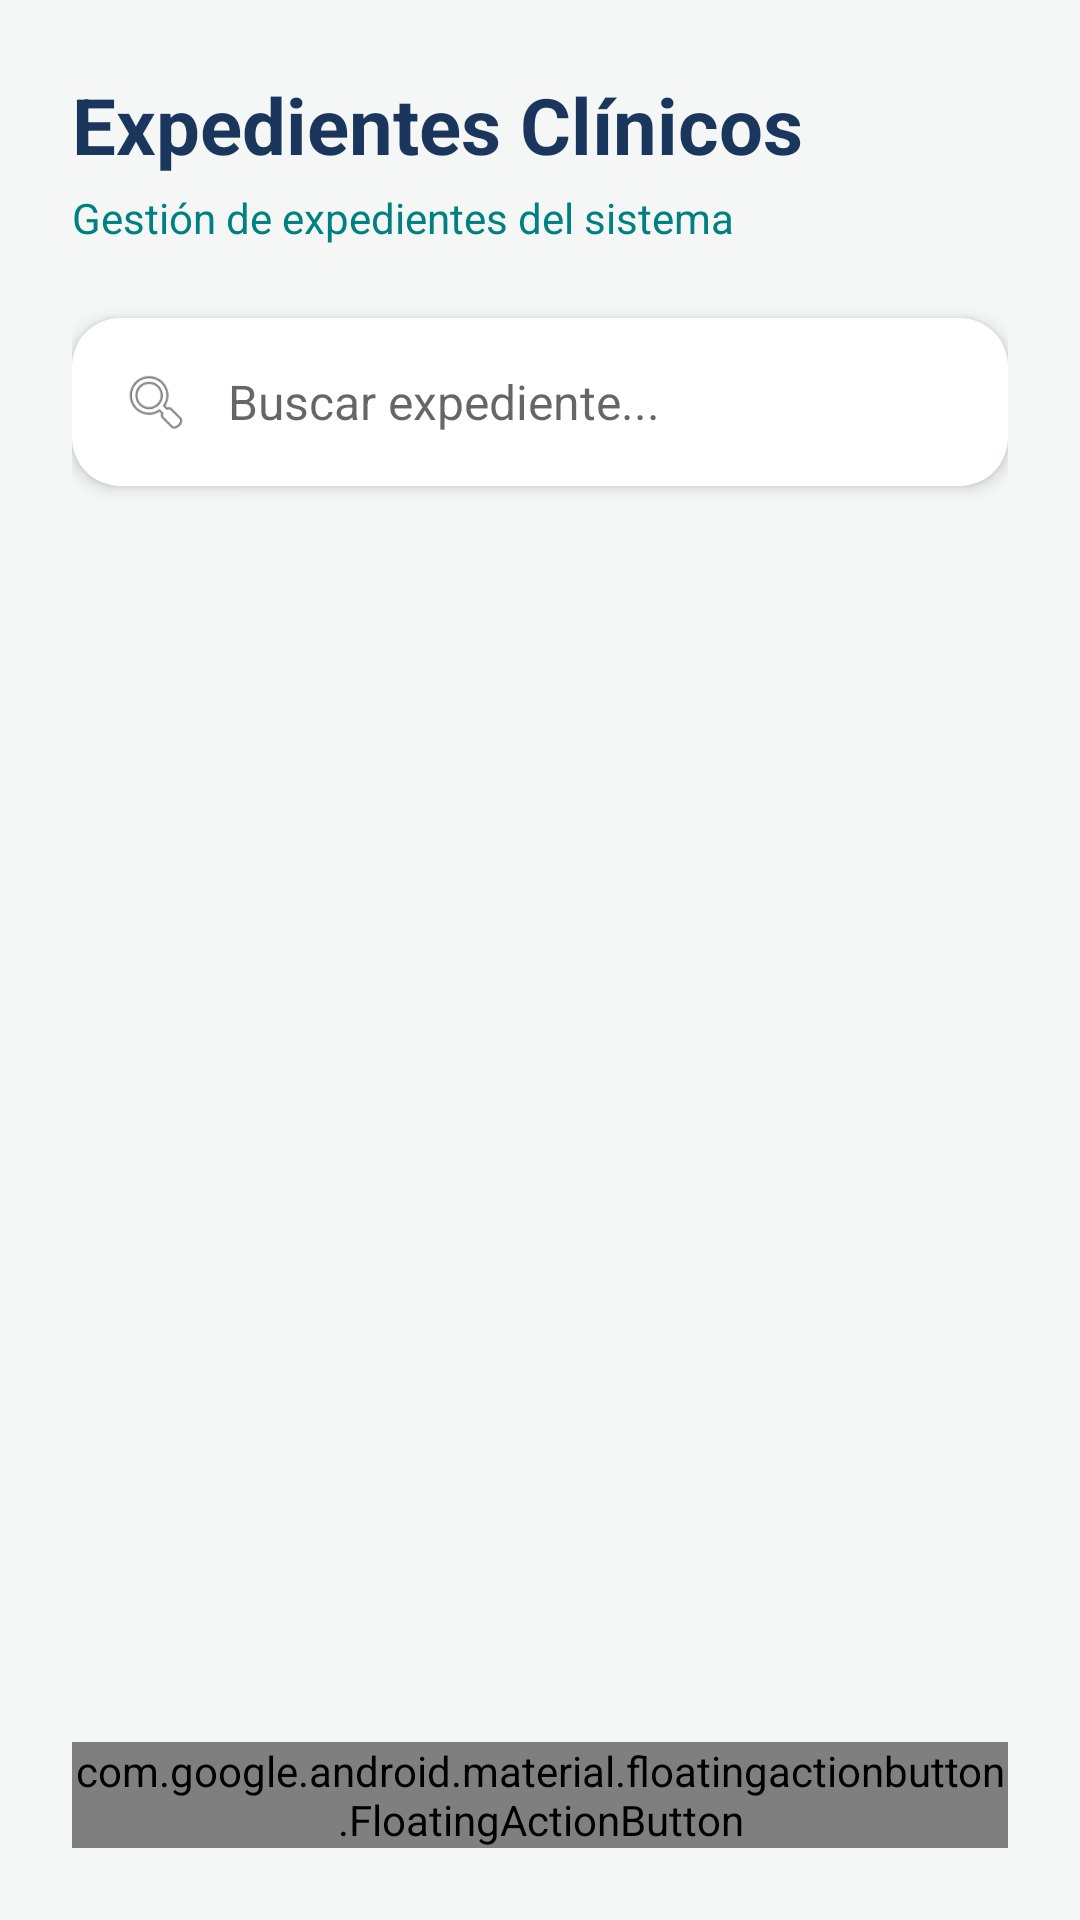

Named icons in this screenshot (1080w x 1920h) and their centers, point (x, y):
search: point (156, 402)
